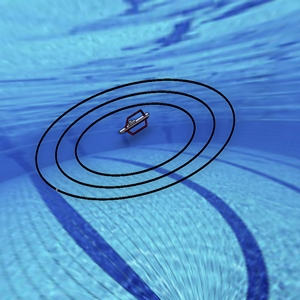circle: (33, 72, 248, 204)
submarine: (113, 105, 155, 142)
